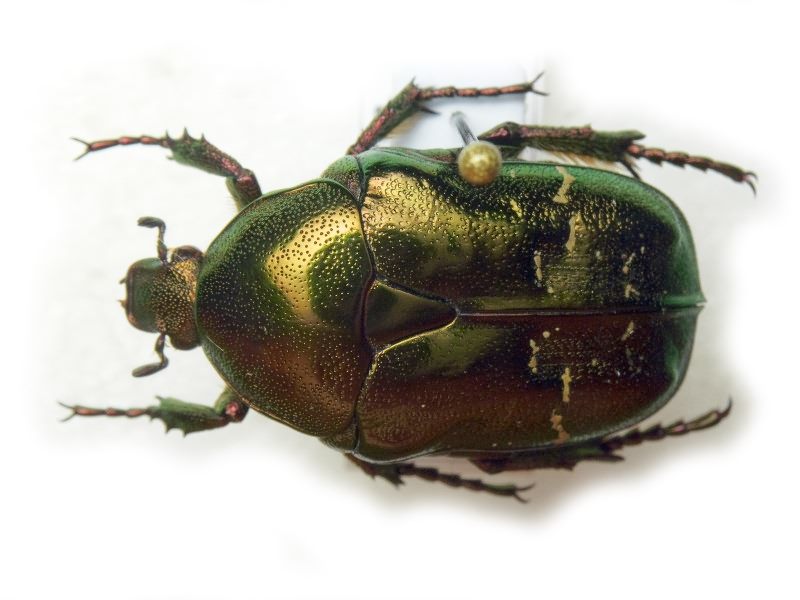Protaetia_fieberi: (45, 71, 741, 507)
